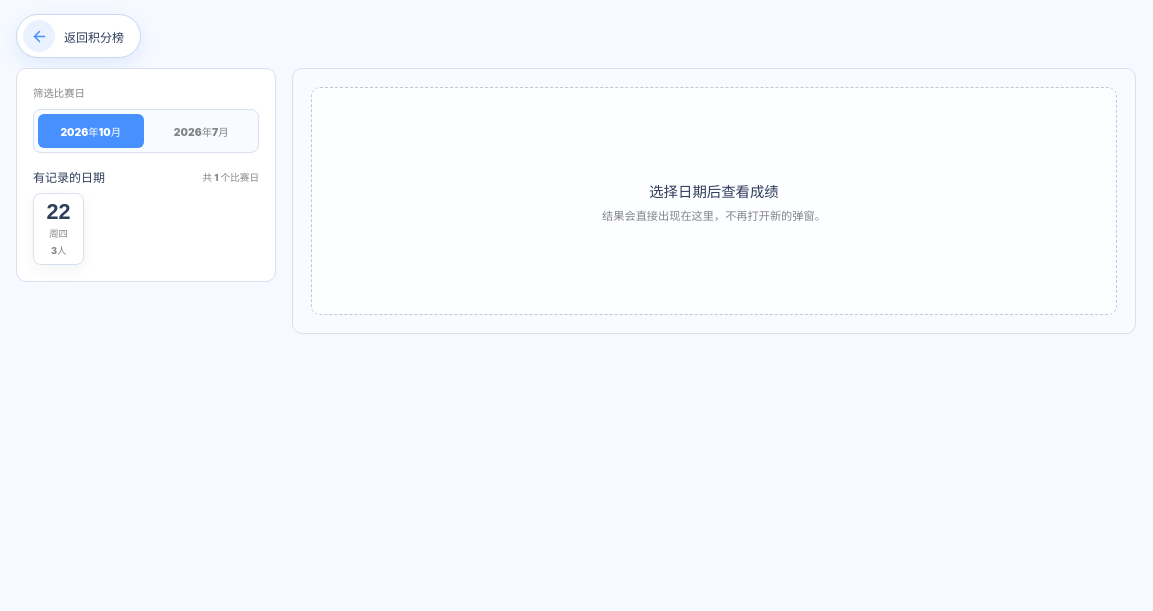
Test: shows 情侣赛 label for dates in S55 and 开黑赛 for earlier dates
The image size is (1153, 611).
Click the button with aria-label "查看 2026年10月22日积分": click(59, 229) x1=33 y1=193 x2=84 y2=265
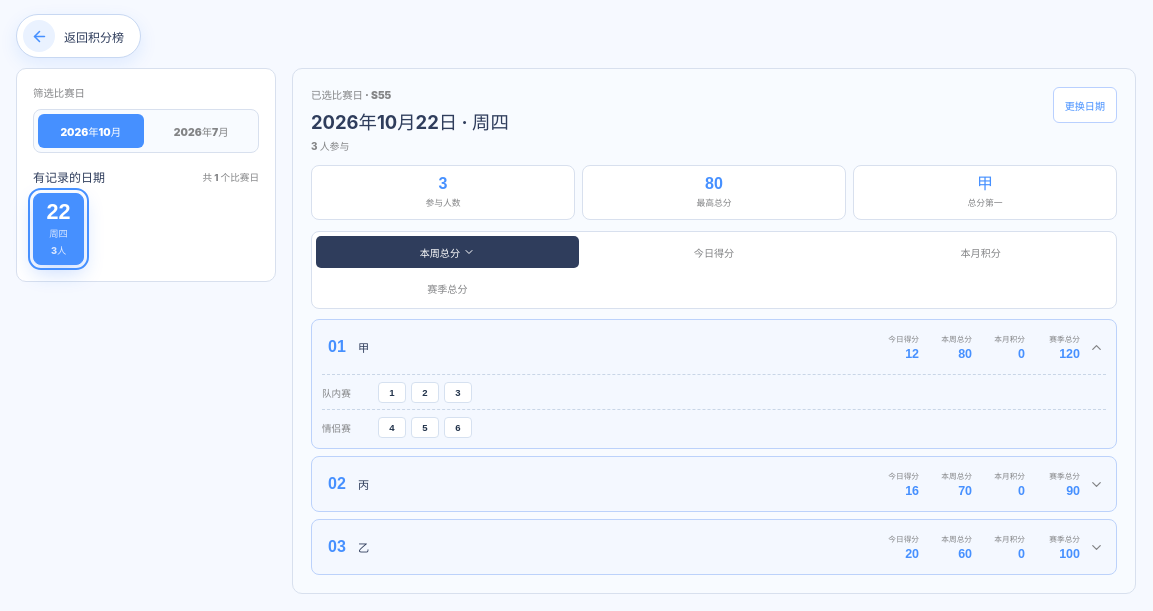
Expected: the text "情侣赛" is shown, x1=322 y1=423 x2=351 y2=434
Click the tab "2026年7月": click(201, 131) x1=148 y1=114 x2=254 y2=148
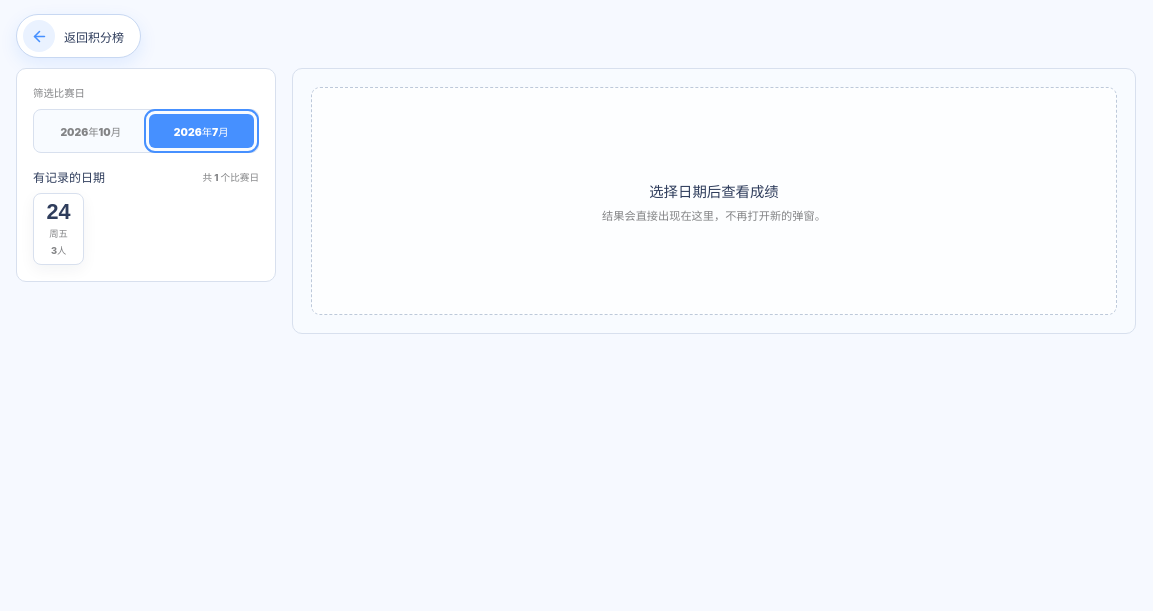
Click the button with aria-label "查看 2026年7月24日积分": click(59, 229) x1=33 y1=193 x2=84 y2=265
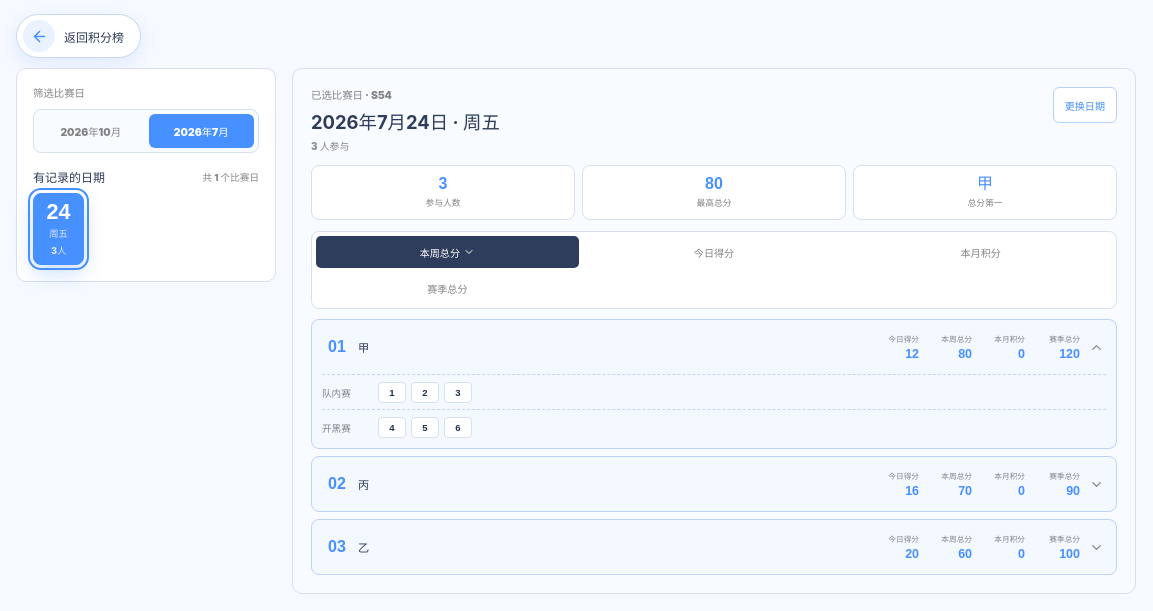
Expected: the text "情侣赛" is not shown
Expected: the text "开黑赛" is shown, x1=322 y1=423 x2=351 y2=434
